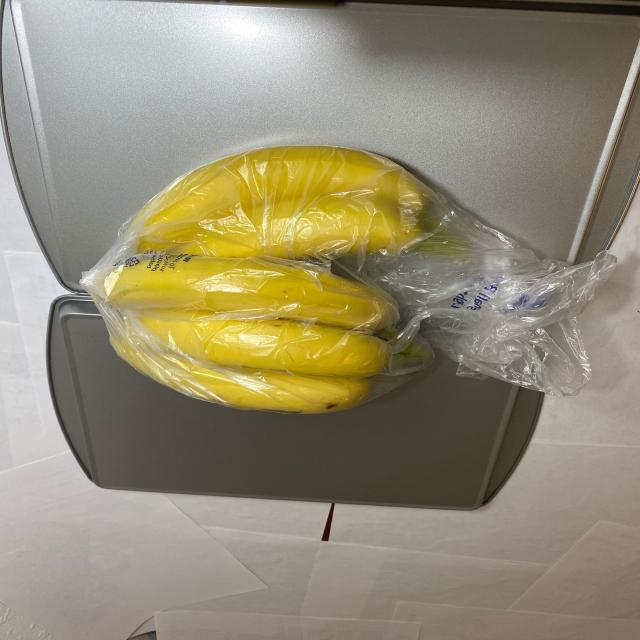banana: (88, 143, 456, 420)
